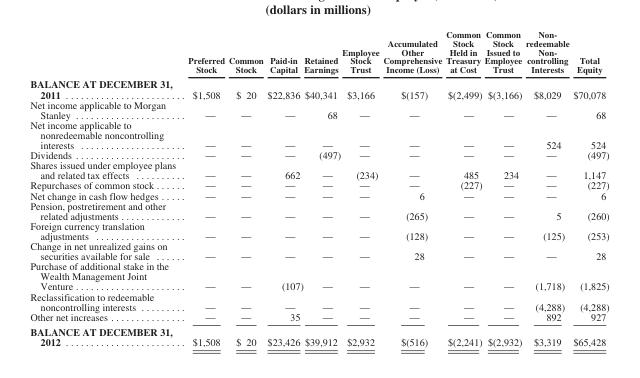table: (29, 28, 608, 347)
table column: (29, 28, 181, 347), (380, 28, 443, 347), (523, 28, 570, 347), (181, 28, 226, 347), (482, 28, 523, 347), (340, 28, 380, 347), (264, 28, 303, 347), (443, 28, 482, 347), (226, 28, 264, 347), (570, 28, 608, 347), (303, 28, 340, 347)
table column header: (29, 28, 608, 76)
table row: (29, 28, 608, 76), (29, 260, 608, 291), (29, 119, 608, 149), (29, 323, 608, 347), (29, 76, 608, 99), (29, 99, 608, 119), (29, 159, 608, 179), (29, 200, 608, 220), (29, 220, 608, 240), (29, 240, 608, 260), (29, 291, 608, 311), (29, 311, 608, 323), (29, 179, 608, 190), (29, 149, 608, 159), (29, 190, 608, 200)
